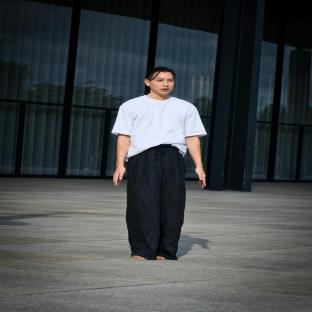Human: (112, 67, 207, 260)
